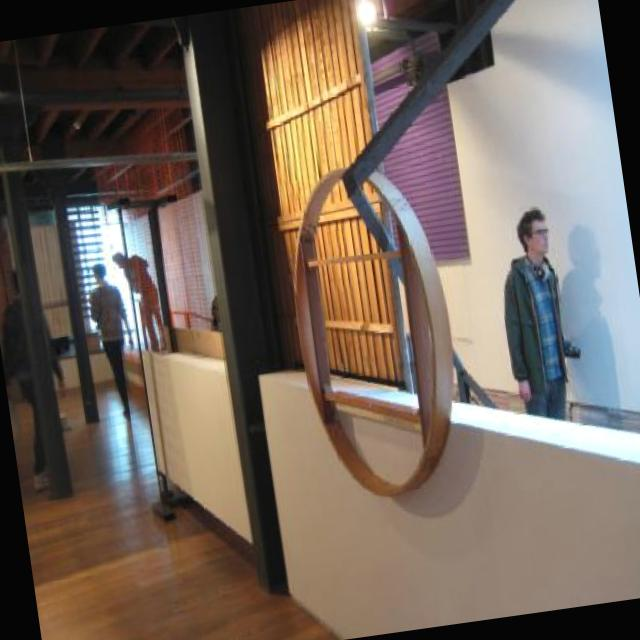Person: (488, 202, 592, 439), (84, 259, 146, 423), (112, 243, 166, 358)
